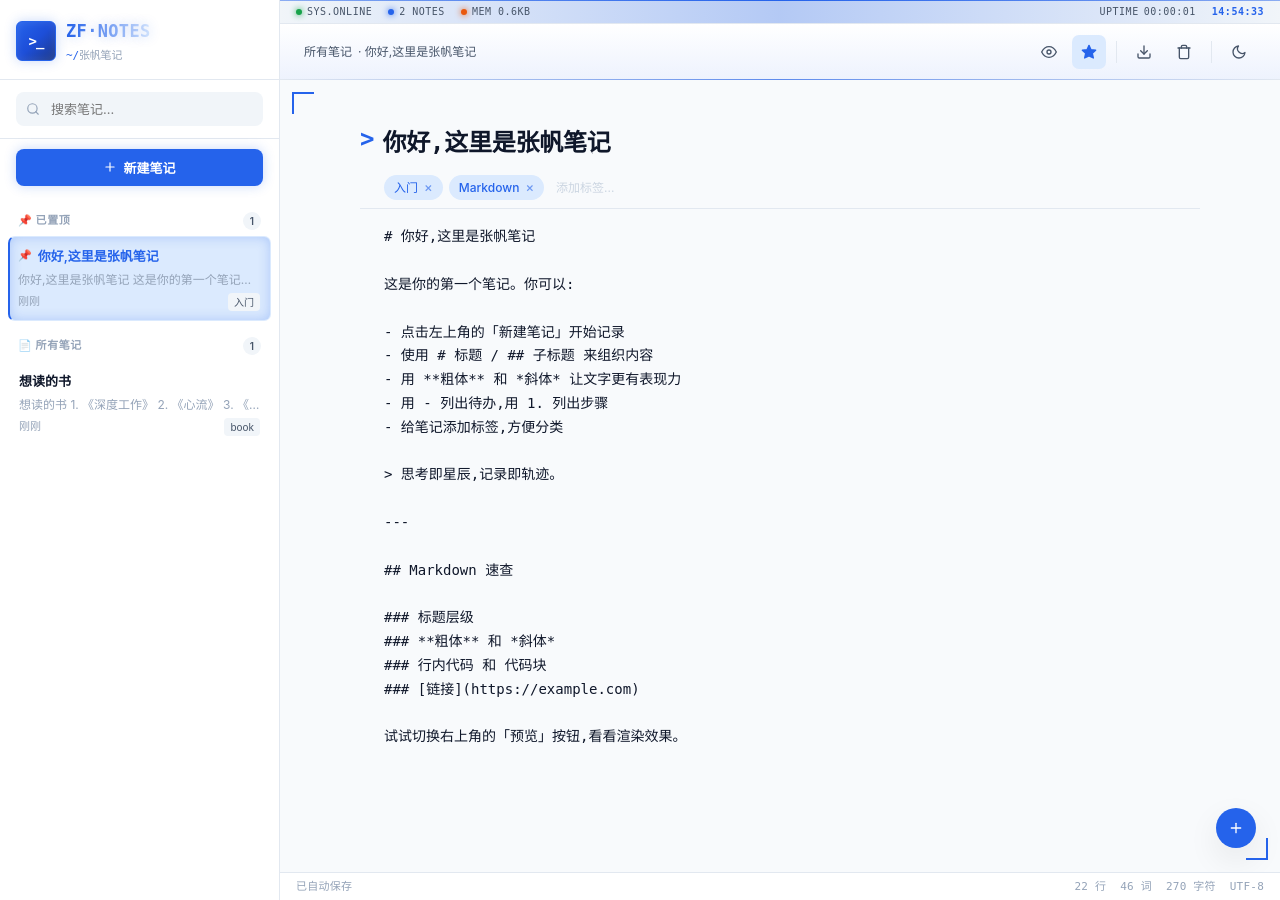
Test: App integration › delete confirmation resets current
Click the button with test id "delete-btn" at [1184, 52], box [1167, 34, 1201, 68]
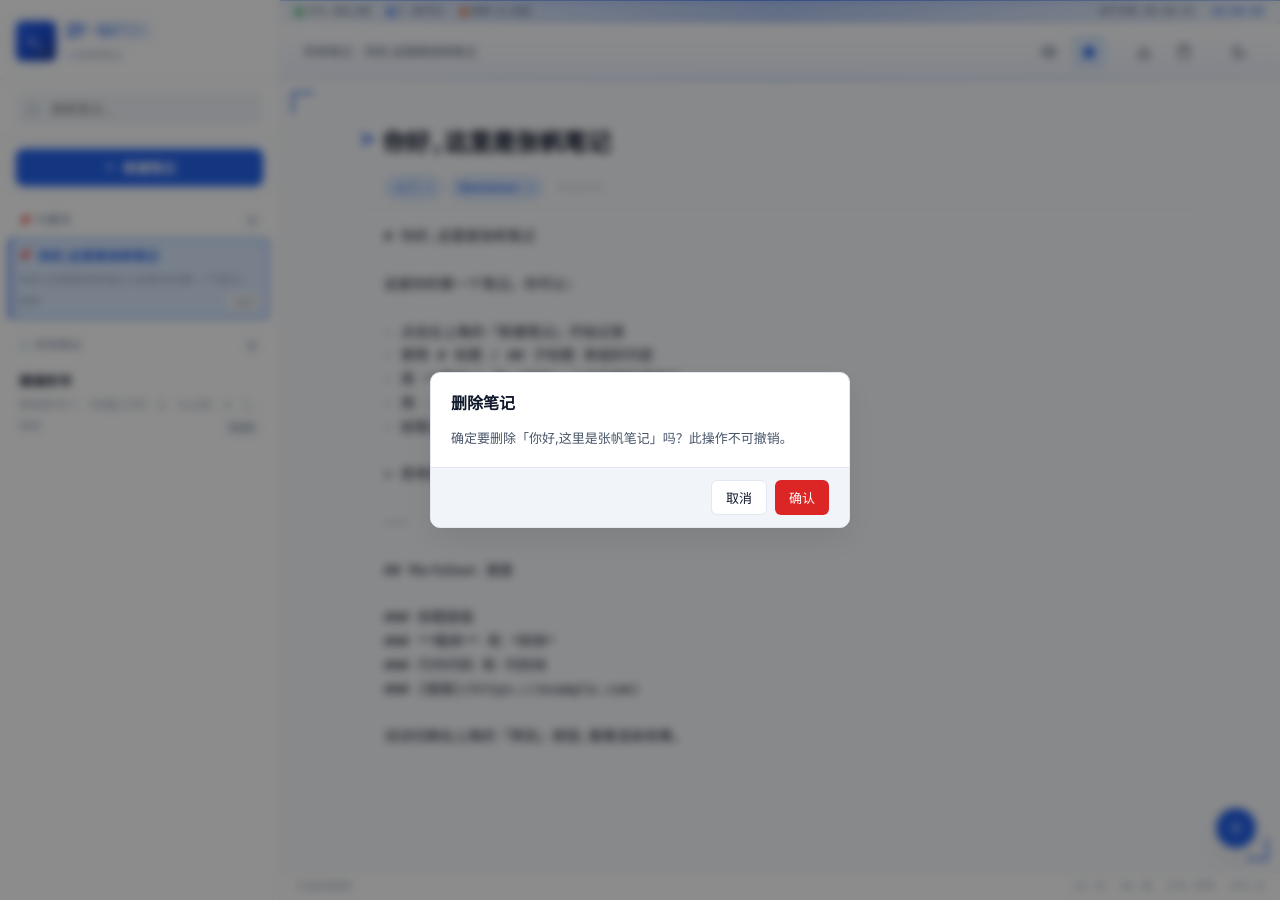
expect the element with test id "modal-backdrop" is shown: met
Click the button with test id "modal-confirm" at [802, 498], box [775, 480, 829, 515]
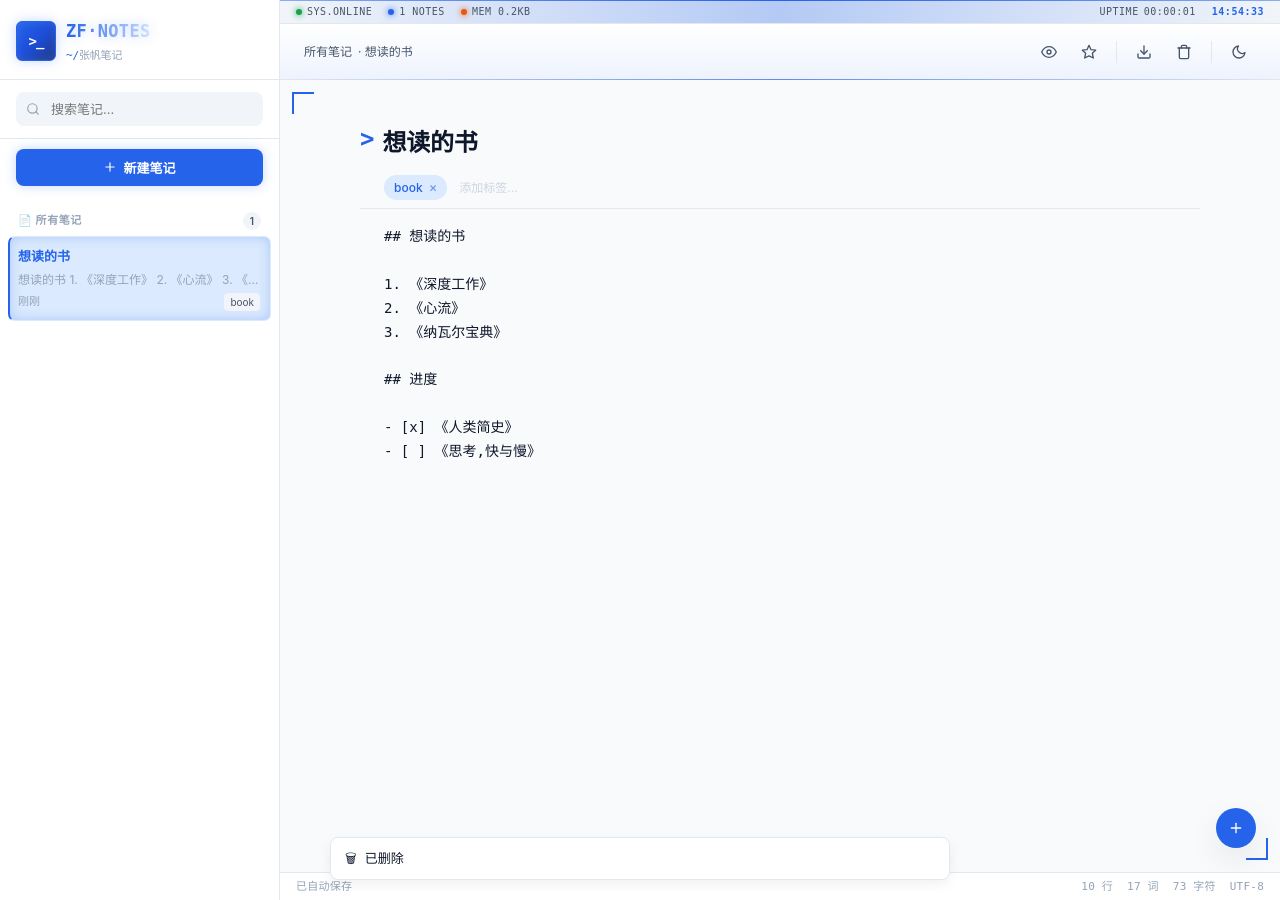
expect the number of elements with class "note-item" is 1: met, box [8, 236, 271, 321]
expect the element with test id "modal-backdrop" is gone: met
